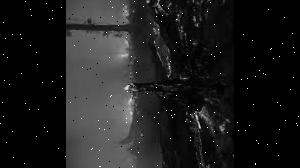fire: (184, 108, 234, 168), (117, 26, 135, 122)
